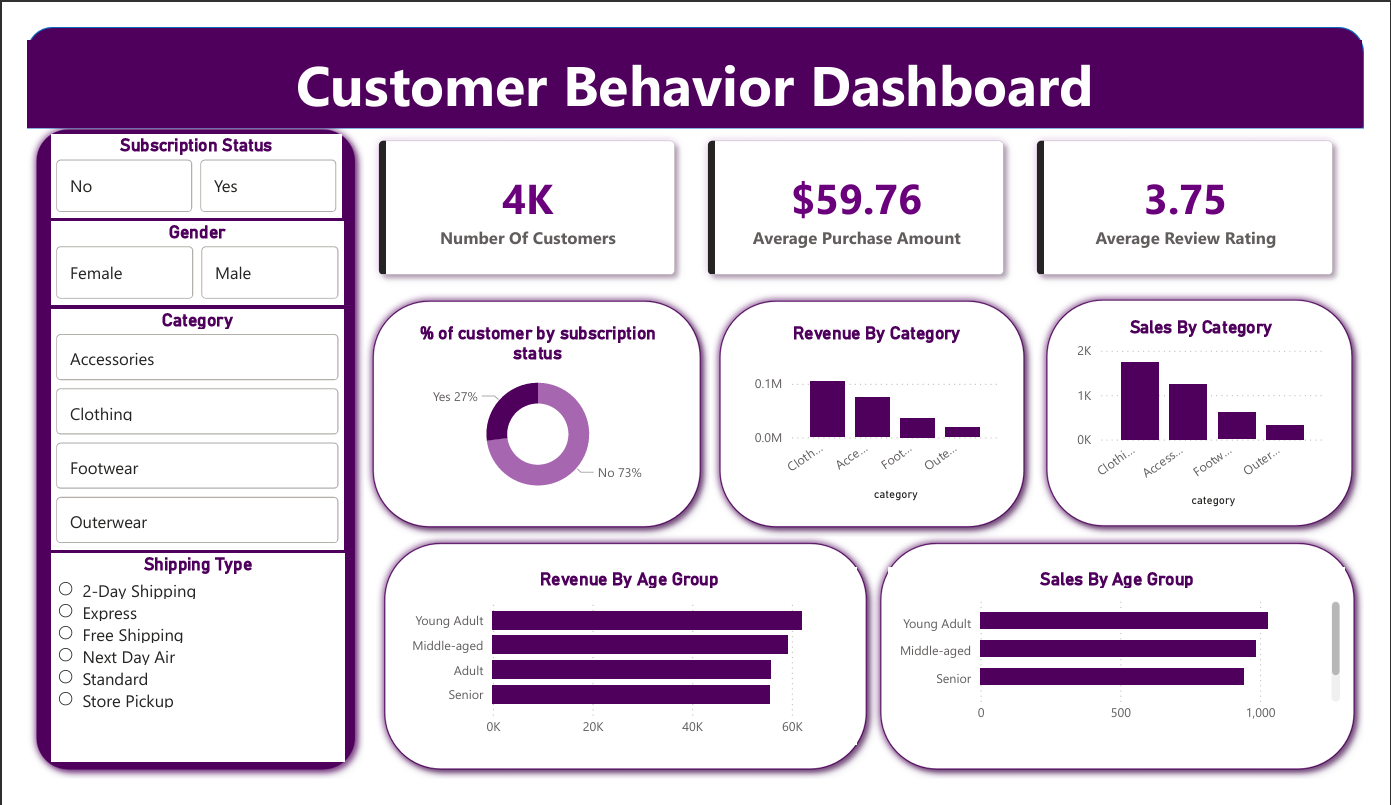

The dashboard page shown, as its layout file describes it:
{"tool":"powerbi","page":{"name":"Page 1","canvas":[1280,720],"ordinal":0},"visuals":[{"type":"cardVisual","fields":{"Data":["customer_behavior customer.Number of customers","customer_behavior customer.Average Purchase Amount","customer_behavior customer.Average Review Rating"]},"box":[308.3,80,971.7,186.7],"z":0},{"type":"shape","box":[0,0,1280,96.7],"z":1000},{"type":"textbox","box":[0,13.3,1278.3,83.3],"z":2000},{"type":"shape","box":[322.3,252.7,331.7,235],"z":3000},{"type":"donutChart","title":"% of customer  by subscription status","fields":{"Y":["CountNonNull(customer_behavior customer.customer_id)"],"Category":["customer_behavior customer.subscription_status"]},"box":[359,282.7,260,176.7],"z":4000},{"type":"shape","box":[654,252.7,310,235],"z":4001},{"type":"clusteredColumnChart","title":"Revenue By Category","fields":{"Category":["customer_behavior customer.category"],"Y":["Sum(customer_behavior customer.purchase_amount)"]},"box":[690.7,282.7,245,176.7],"z":4002},{"type":"shape","box":[966.7,252,311.7,235],"z":4004},{"type":"clusteredColumnChart","title":"Sales By Category","fields":{"Category":["customer_behavior customer.category"],"Y":["CountNonNull(customer_behavior customer.customer_id)"]},"box":[1000,277,248.3,186.7],"z":4005},{"type":"shape","box":[333.3,485,480,235],"z":4007},{"type":"clusteredBarChart","title":"Revenue By Age Group","fields":{"Category":["customer_behavior customer.age_group"],"Y":["Sum(customer_behavior customer.purchase_amount)"]},"box":[358.3,518.3,436.7,170],"z":4008},{"type":"shape","box":[808.3,485,471.7,235],"z":4009},{"type":"clusteredBarChart","title":"Sales By Age Group","fields":{"Category":["customer_behavior customer.age_group"],"Y":["CountNonNull(customer_behavior customer.customer_id)"]},"box":[825,518.3,436.7,156.7],"z":4010},{"type":"shape","box":[0,88.6,322.9,631.4],"z":4011},{"type":"advancedSlicerVisual","title":"Subscription Status","fields":{"Values":["customer_behavior customer.subscription_status"]},"box":[22.9,102.9,278.6,80],"z":4012},{"type":"advancedSlicerVisual","title":"Gender","fields":{"Values":["customer_behavior customer.gender"]},"box":[22.9,185.7,280,80],"z":4013},{"type":"advancedSlicerVisual","title":"Category","fields":{"Values":["customer_behavior customer.category"]},"box":[22.9,270,280,230],"z":4014},{"type":"listSlicer","title":"Shipping Type","fields":{"Values":["customer_behavior customer.shipping_type"]},"box":[22.9,504.3,281.4,200],"z":4015}]}

Visuals, with their boxes in screenshot pixels (x1, y1, x2, y2), scaled from the page's 1280x720 canvas onto the 1391x805 screenshot:
cardVisual - customer_behavior customer.Number of customers x customer_behavior customer.Average Purchase Amount: region(335, 89, 1390, 298)
shape: region(0, 0, 1390, 108)
textbox: region(0, 15, 1389, 108)
shape: region(350, 283, 711, 545)
"% of customer  by subscription status" donutChart: region(390, 316, 673, 514)
shape: region(711, 283, 1048, 545)
"Revenue By Category" clusteredColumnChart: region(751, 316, 1017, 514)
shape: region(1051, 282, 1389, 544)
"Sales By Category" clusteredColumnChart: region(1087, 310, 1357, 518)
shape: region(362, 542, 884, 804)
"Revenue By Age Group" clusteredBarChart: region(389, 579, 864, 770)
shape: region(878, 542, 1390, 804)
"Sales By Age Group" clusteredBarChart: region(897, 579, 1371, 755)
shape: region(0, 99, 351, 804)
"Subscription Status" advancedSlicerVisual: region(25, 115, 328, 204)
"Gender" advancedSlicerVisual: region(25, 208, 329, 297)
"Category" advancedSlicerVisual: region(25, 302, 329, 559)
"Shipping Type" listSlicer: region(25, 564, 331, 787)
